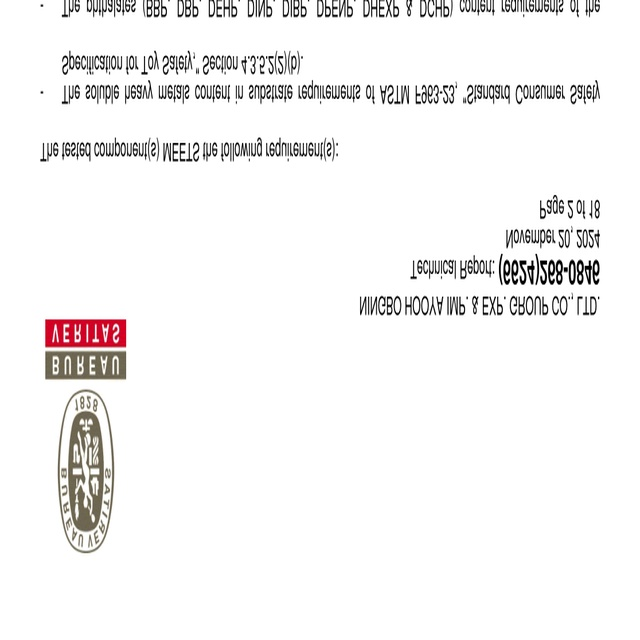bureau_veritas: (41, 315, 129, 558)
